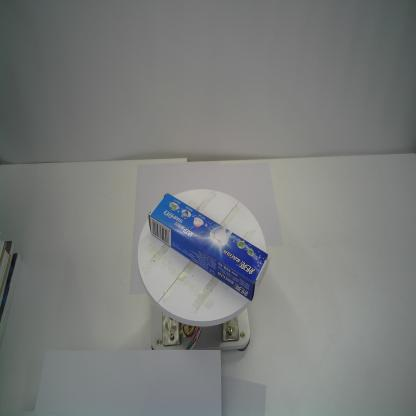Personal Hygiene: (147, 190, 272, 303)
